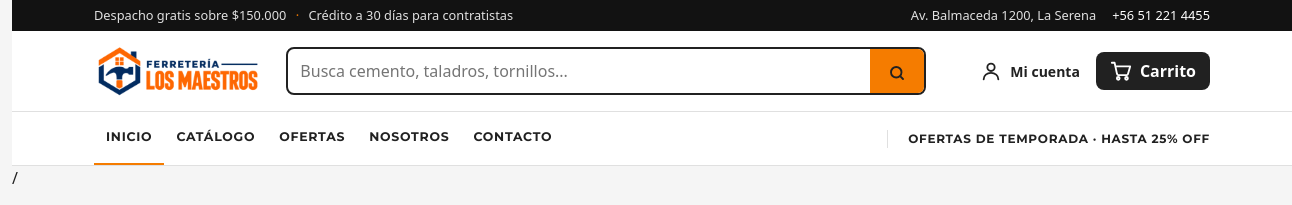
Header › el buscador lleva al catalogo con el texto
The image size is (1292, 205).
Type "taladro" into the search field named "Buscar en la tienda" at (579, 71), box [288,49,870,93]
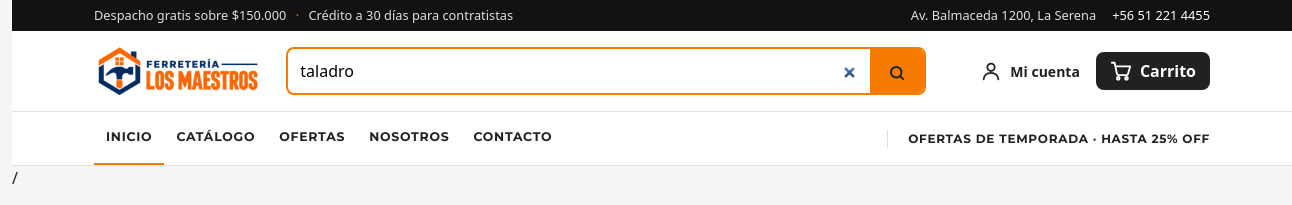
Click the button named "Buscar" at (897, 71), box [870,49,924,93]
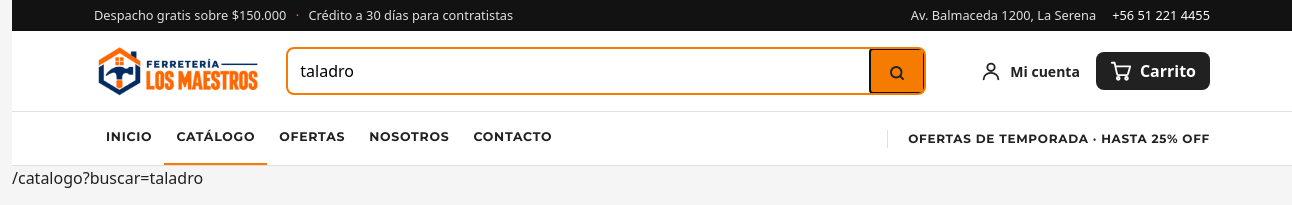
Expected: the text with test id "ubicacion" reads "/catalogo?buscar=taladro", [12,167,203,189]
